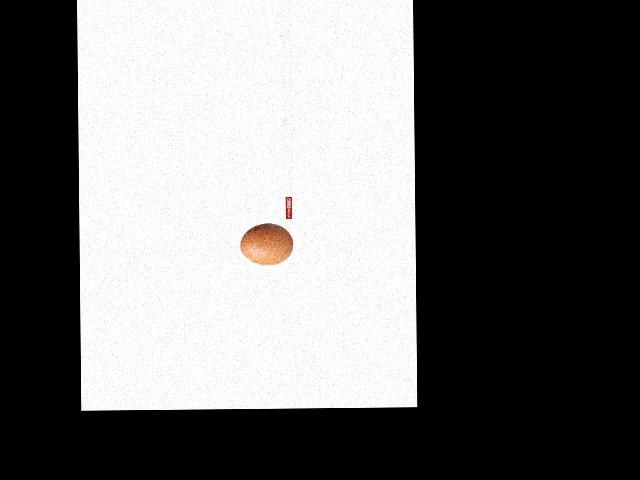egg: (240, 223, 293, 266)
